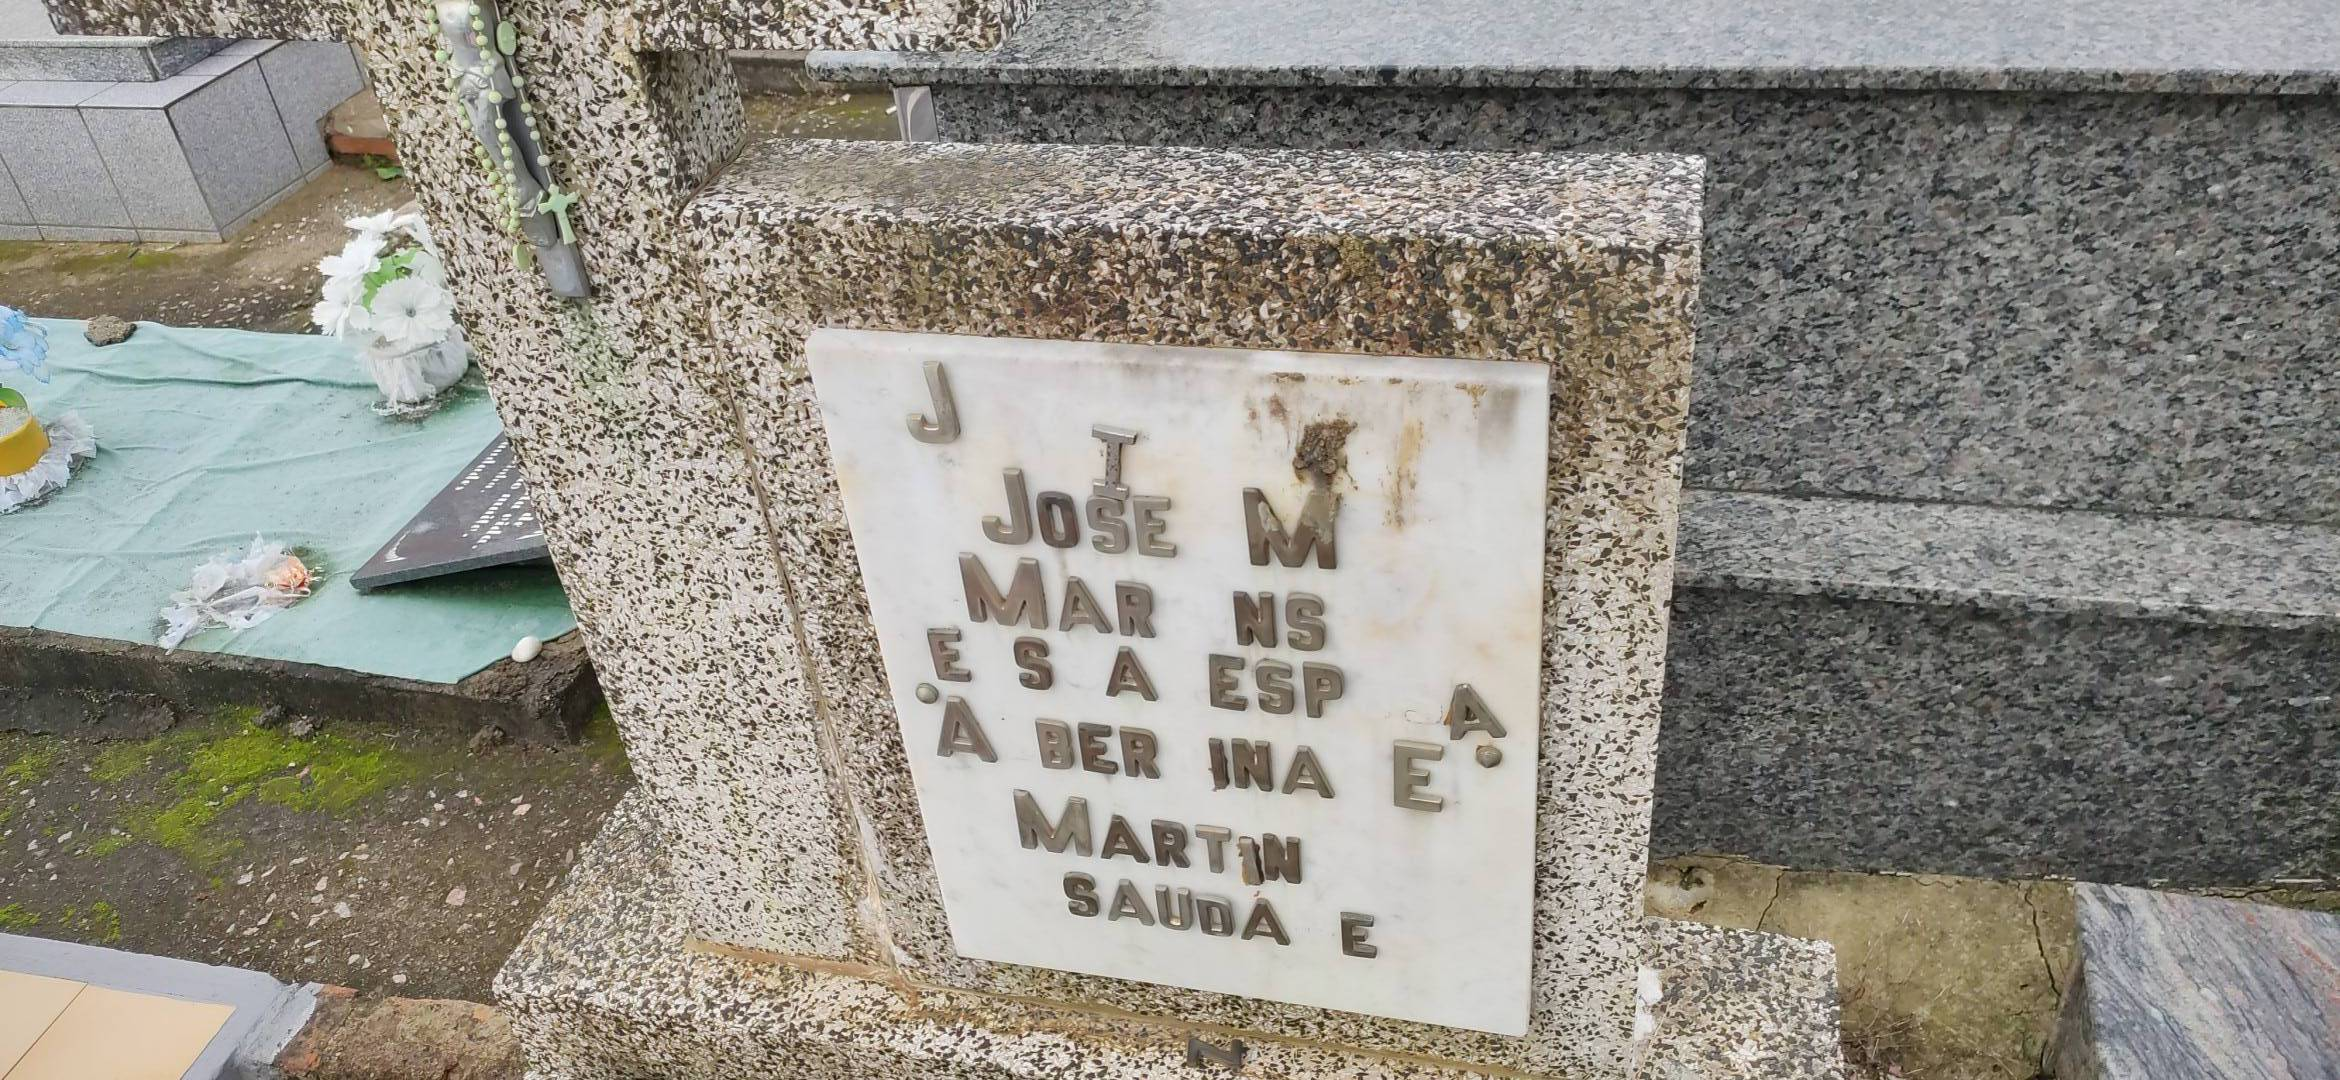upright: (340, 0, 1839, 1080)
